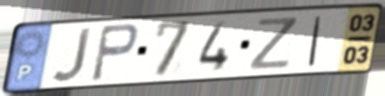4: (195, 20, 232, 73)
7: (154, 20, 193, 80)
I: (306, 14, 325, 68)
J: (49, 25, 95, 84)
P: (88, 22, 140, 84)
Z: (246, 15, 302, 72)
